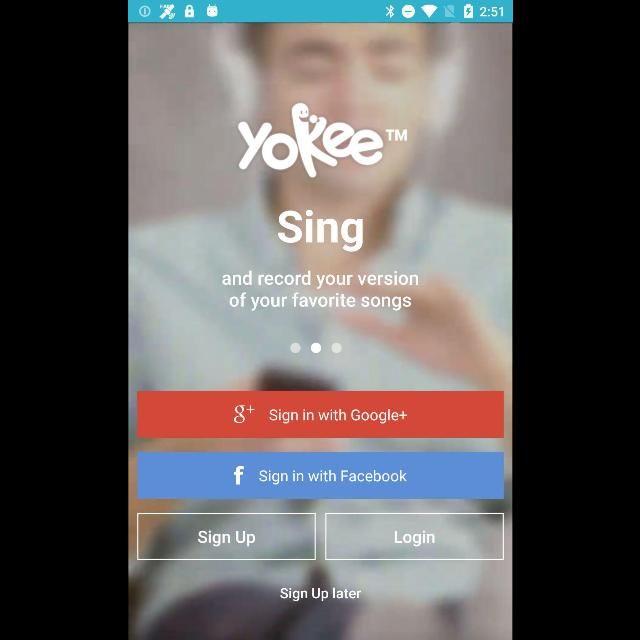backgroundimage: (128, 22, 512, 640)
image: (237, 104, 407, 178)
pageindicator: (288, 342, 342, 354)
text: (221, 270, 417, 312), (277, 210, 363, 252), (280, 588, 360, 602)
textbutton: (137, 452, 503, 500), (137, 392, 503, 438), (137, 512, 316, 560), (324, 514, 503, 560)
uppertaskbar: (128, 1, 512, 23)
